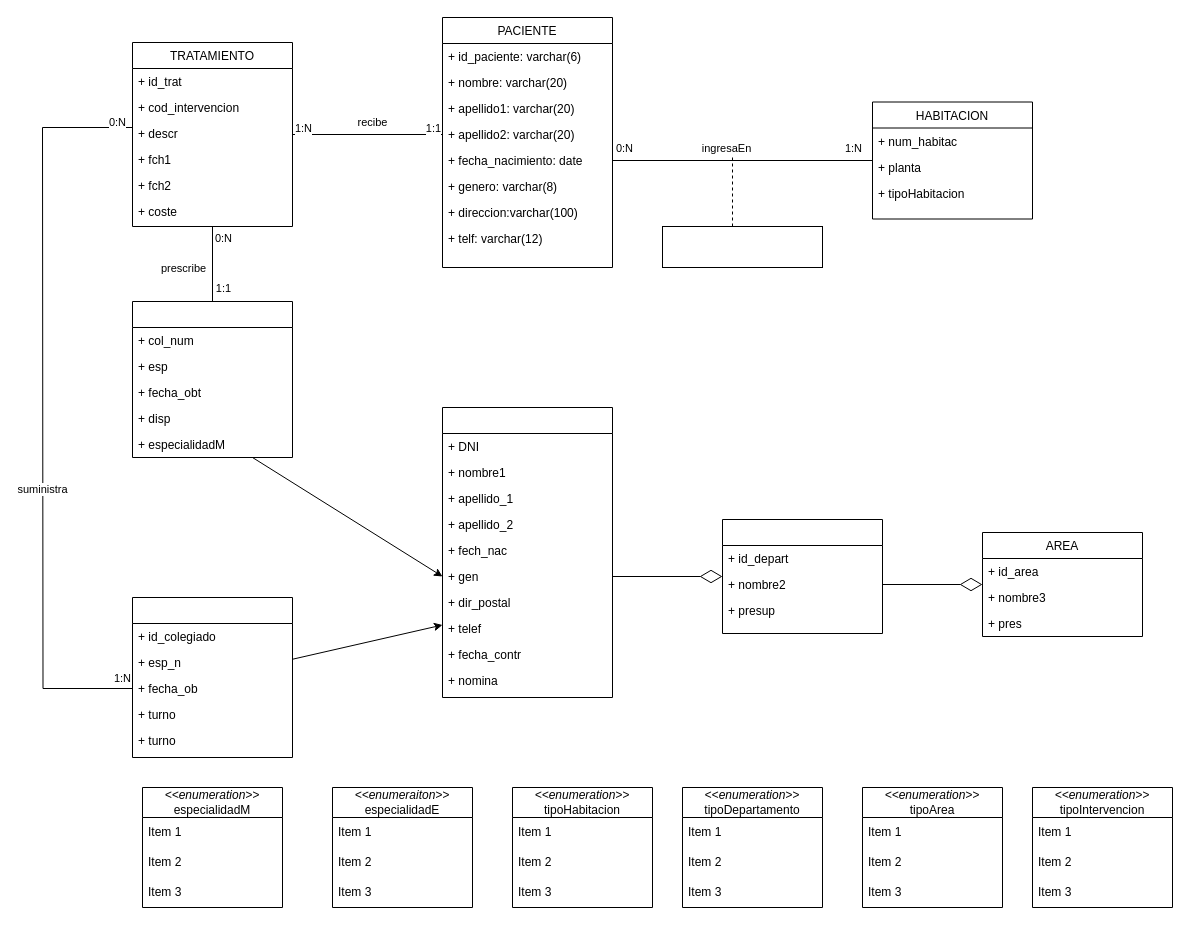
The diagram is 1190 pixels wide and 925 high, and some of its shapes have lost their labels. Each missing label, with the box of its shape:
+ fecha_entr: date + fecha_salid: date: (662, 226, 822, 268)
DEPARTAMENTO: (722, 518, 882, 634)
EMPLEADO: (442, 406, 612, 698)
ENFERMERO: (132, 596, 292, 758)
MEDICO: (132, 300, 292, 458)
